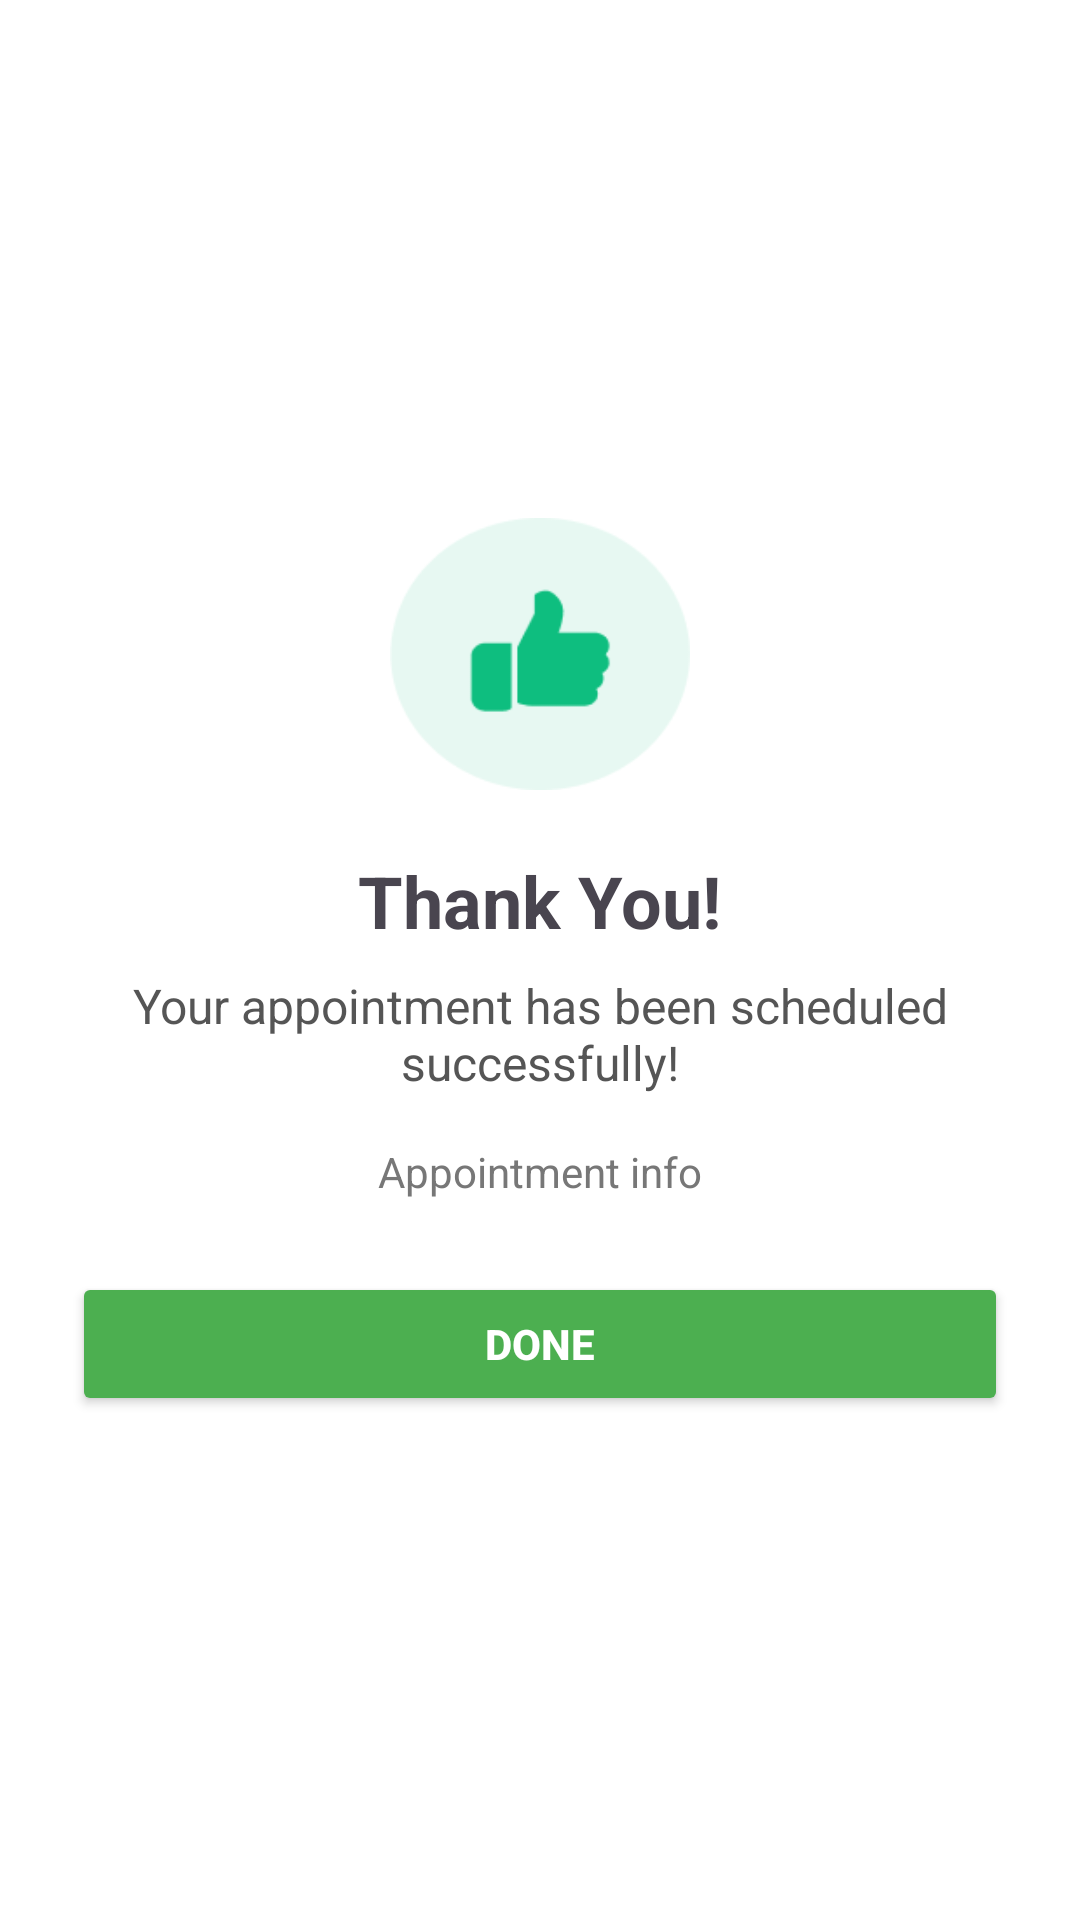

Where icons sit on this 1080w x 1920h app screen, as (x1, y1, x2, y2):
tumb: (469, 589, 611, 712)
